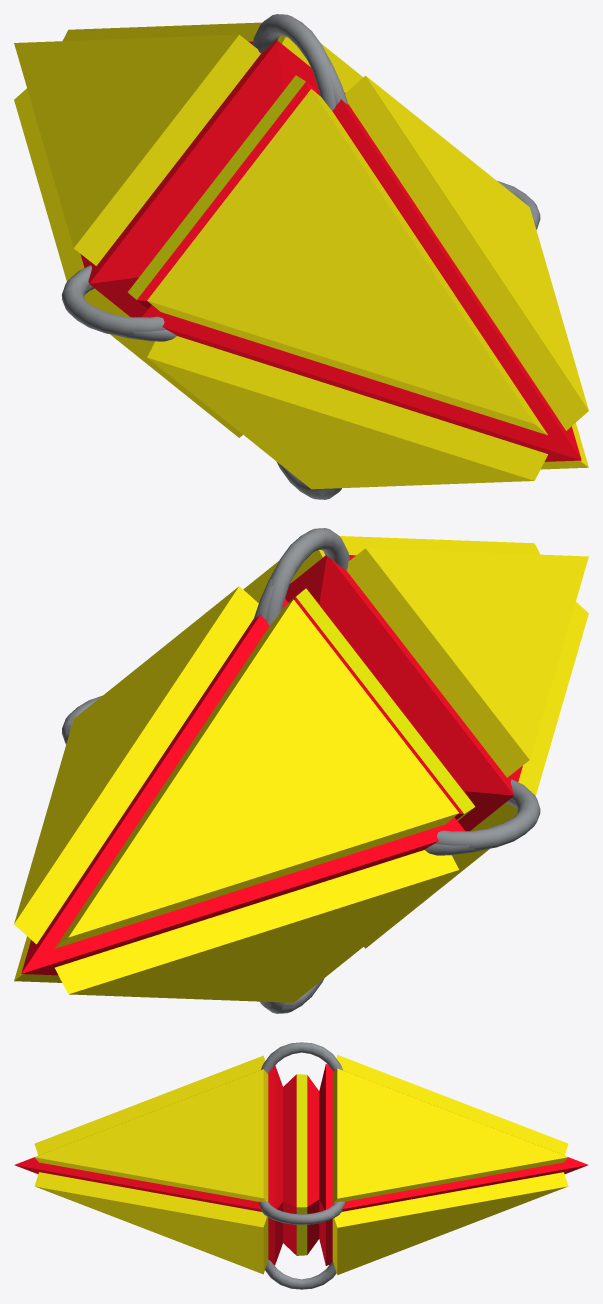
The model's file is BulletEnemy2.fbx.
3 views of the same model, one above another, from view 1: azimuth 30°, elevation 25°; view 2: azimuth 150°, elevation 25°; view 3: azimuth 270°, elevation 25° (orthographic). The views are drawn at different scales.
Visible parts, largest first — view 1: BulletEnemy2; view 2: BulletEnemy2; view 3: BulletEnemy2.
Part boxes in pixels (box(x1,y1,x2,y2)): BulletEnemy2: box(14, 14, 588, 499); BulletEnemy2: box(14, 528, 588, 1013); BulletEnemy2: box(14, 1042, 588, 1289).
Bounding box in the file's own units: 0.4672 × 0.4669 × 1.
Materials: 1 (1 with a texture image).
